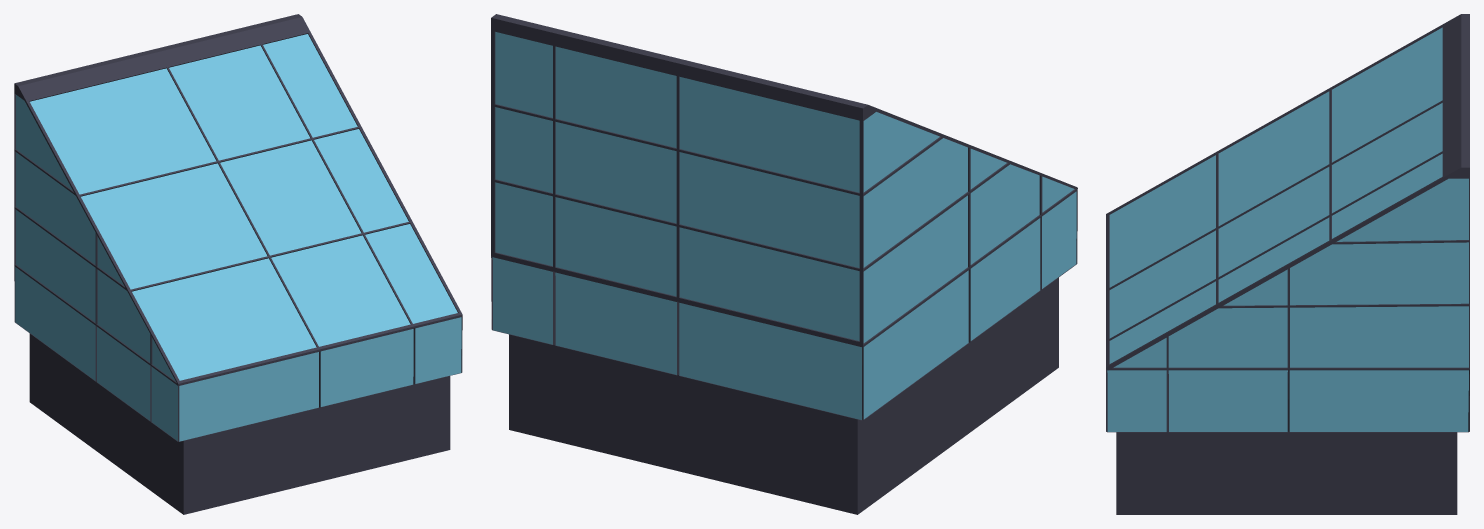
Rendered from building_1x1_9_r.glb.
3 renders of one model, left to right at view 1: azimuth 30°, elevation 25°; view 2: azimuth 150°, elevation 25°; view 3: azimuth 270°, elevation 25°, orthographic. The views are drawn at different scales.
Visible parts, largest first — view 1: ThordFloor; view 2: ThordFloor; view 3: ThordFloor.
Boxes of the visible parts, box(x1,y1,x2,y2) form: ThordFloor: box(14, 14, 462, 514); ThordFloor: box(491, 14, 1077, 514); ThordFloor: box(1106, 14, 1469, 514).
Bounding box in the file's own units: 1.52 × 1.62 × 1.52.
